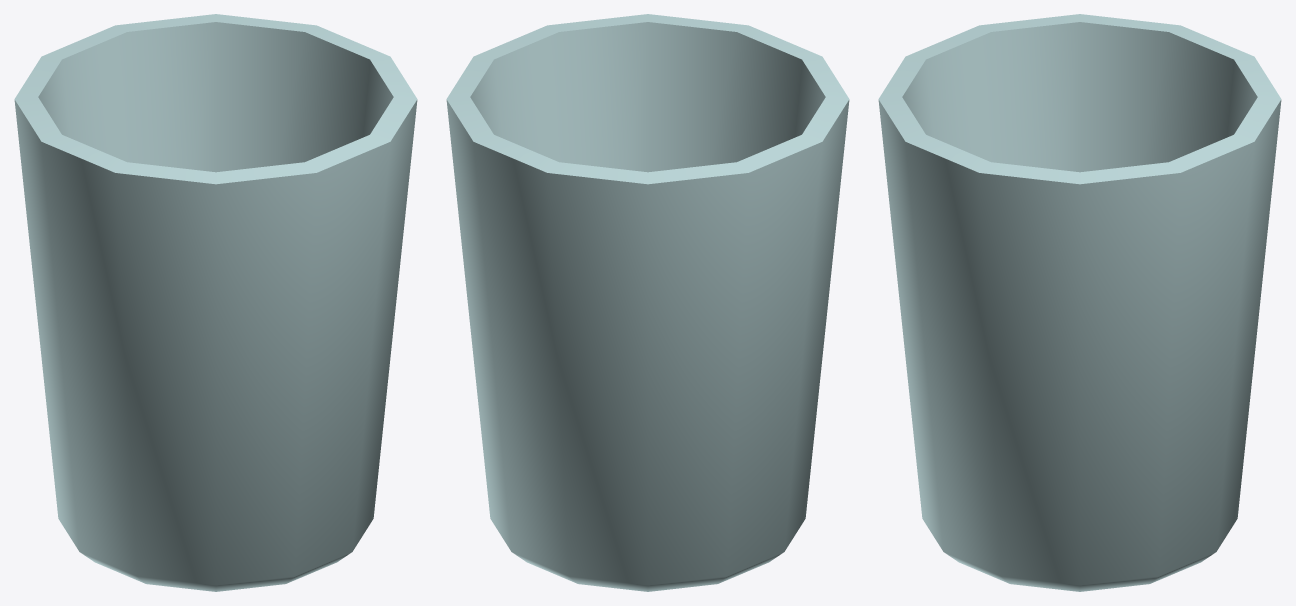
File: Shotglass.fbx
The picture shows the model from 3 angles, left to right: view 1: azimuth 30°, elevation 25°; view 2: azimuth 150°, elevation 25°; view 3: azimuth 270°, elevation 25°; orthographic projection.
Visible parts, largest first — view 1: Shotglass; view 2: Shotglass; view 3: Shotglass.
Boxes of the visible parts, x1,y1,x2,y2 form: Shotglass: (14, 14, 417, 591); Shotglass: (446, 14, 849, 591); Shotglass: (878, 14, 1281, 591).
Bounding box in the file's own units: 0.0508 × 0.0606 × 0.0508.
